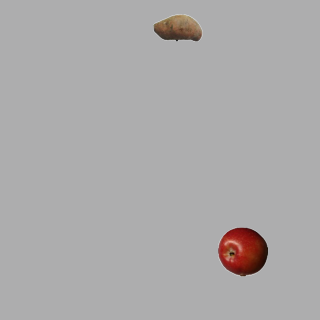Apple Braeburn: (217, 226, 267, 276)
Potato Sweet: (152, 2, 202, 52)
